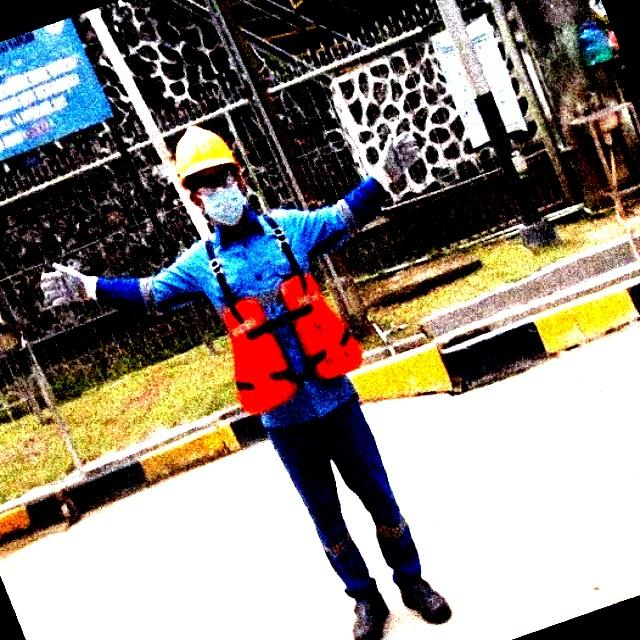helmet: (163, 124, 242, 190)
safety_vest: (180, 219, 353, 391)
